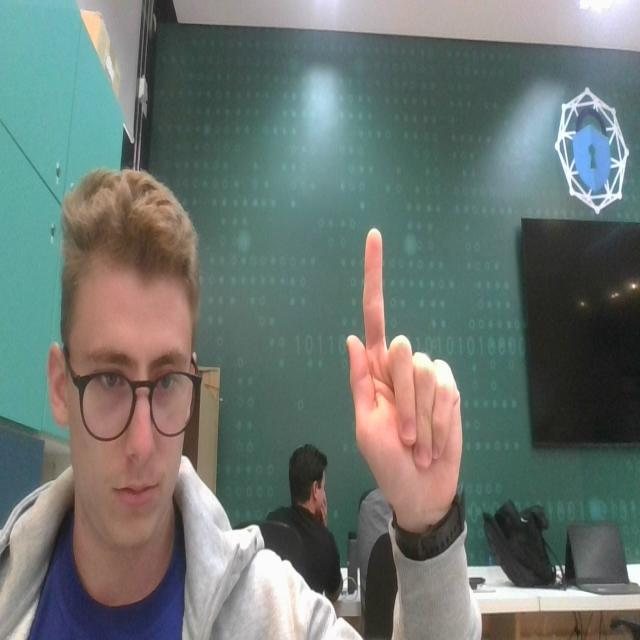G: (335, 218, 484, 554)
